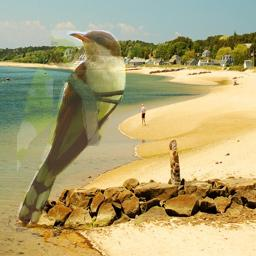Cuckoo: (17, 30, 126, 229)
